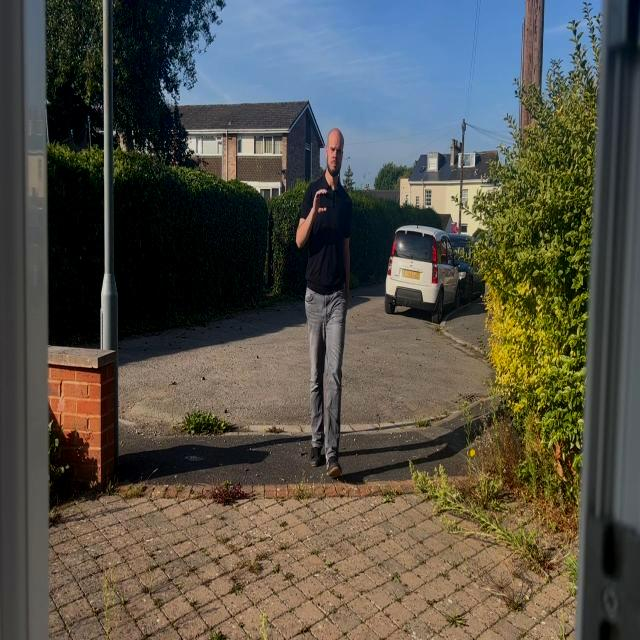lens: (334, 200, 336, 207)
phone: (320, 191, 336, 209)
